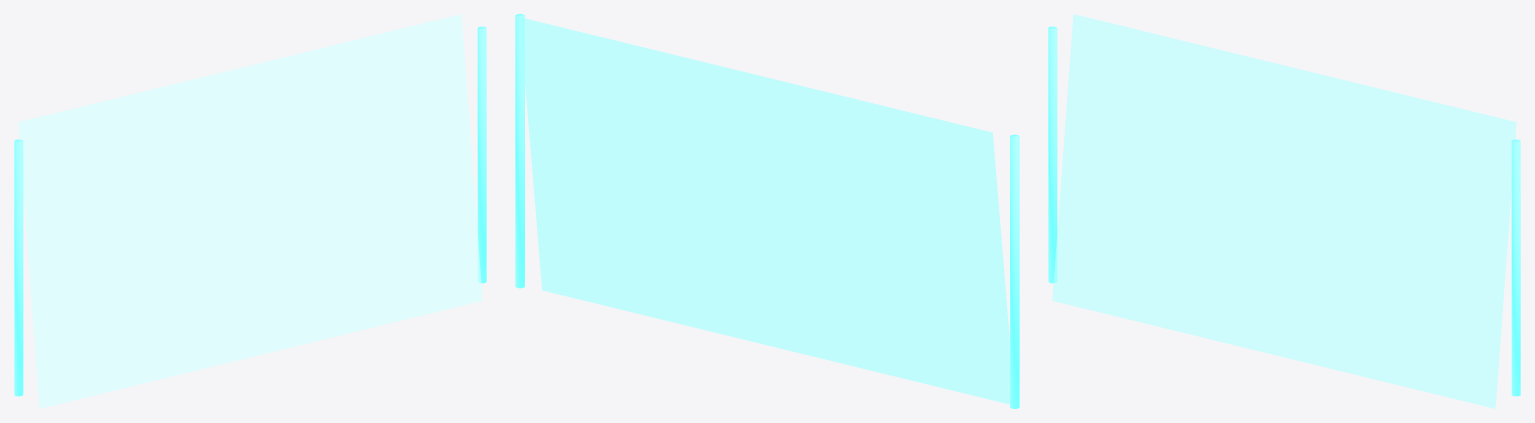
File: holographic_display.glb
3 views of the same model, side by side, from view 1: azimuth 30°, elevation 25°; view 2: azimuth 150°, elevation 25°; view 3: azimuth 330°, elevation 25° (orthographic). The views are drawn at different scales.
Visible parts, largest first — view 1: Holographic_Display, CQ_Prop_Holo_Beacon_-1, CQ_Prop_Holo_Beacon_1; view 2: Holographic_Display, CQ_Prop_Holo_Beacon_1, CQ_Prop_Holo_Beacon_-1; view 3: Holographic_Display, CQ_Prop_Holo_Beacon_1, CQ_Prop_Holo_Beacon_-1.
Boxes of the visible parts, left/top/right/bottom form: Holographic_Display: left=18, top=14, right=482, bottom=408; CQ_Prop_Holo_Beacon_-1: left=14, top=139, right=23, bottom=396; CQ_Prop_Holo_Beacon_1: left=477, top=26, right=486, bottom=283; Holographic_Display: left=519, top=17, right=1009, bottom=404; CQ_Prop_Holo_Beacon_1: left=515, top=14, right=524, bottom=288; CQ_Prop_Holo_Beacon_-1: left=1010, top=134, right=1019, bottom=408; Holographic_Display: left=1052, top=14, right=1516, bottom=408; CQ_Prop_Holo_Beacon_1: left=1511, top=139, right=1520, bottom=396; CQ_Prop_Holo_Beacon_-1: left=1048, top=26, right=1057, bottom=283.
Size of the model in its own units: 2.34 by 1.29 by 0.1809.
